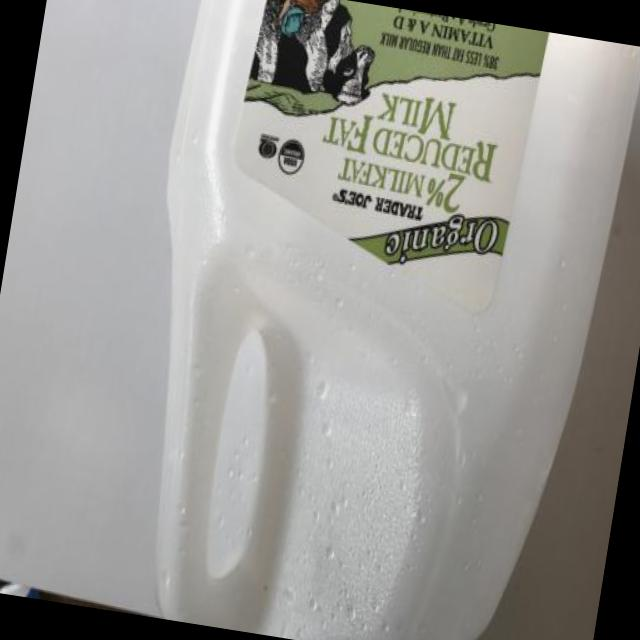Recycle: (99, 0, 640, 640)
